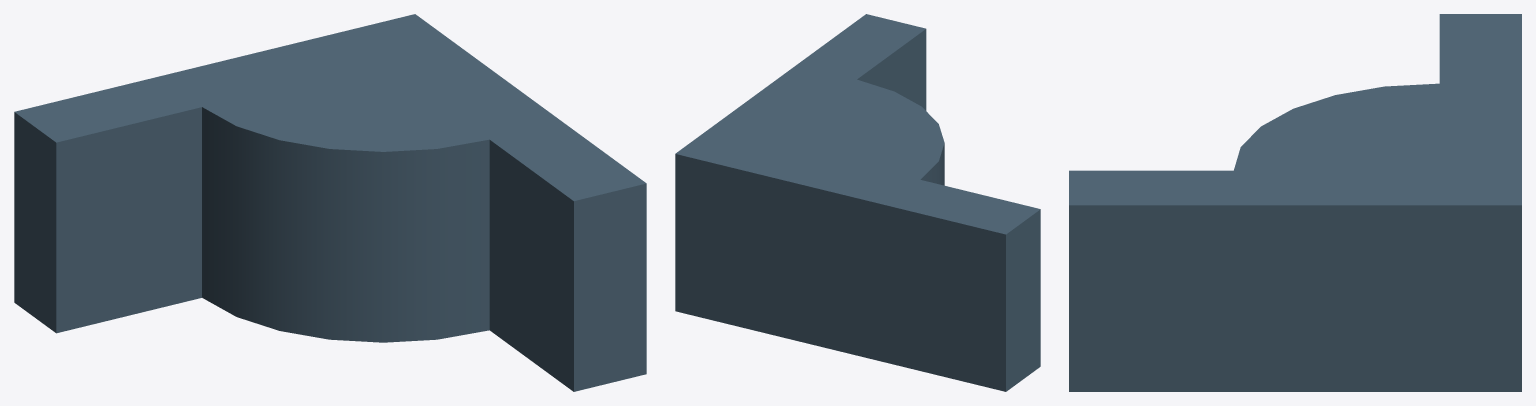
Rendered from W1_WallCorner_Round2B_Top.fbx.
3 views of the same model, side by side, from view 1: azimuth 30°, elevation 25°; view 2: azimuth 150°, elevation 25°; view 3: azimuth 270°, elevation 25° (orthographic). The views are drawn at different scales.
Parts seen in each view (by area): view 1: W1_WallCorner_Round2B_Top.001; view 2: W1_WallCorner_Round2B_Top.001; view 3: W1_WallCorner_Round2B_Top.001.
Part boxes in pixels (x1,y1,x2,y2): W1_WallCorner_Round2B_Top.001: (14,14,646,391); W1_WallCorner_Round2B_Top.001: (675,14,1040,391); W1_WallCorner_Round2B_Top.001: (1069,14,1521,391).
Bounding box in the file's own units: 1.1 × 0.5 × 1.1.
